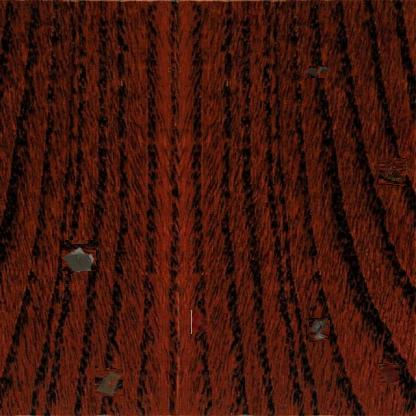dirty: (64, 242, 95, 272), (96, 368, 124, 396), (379, 159, 406, 185), (307, 319, 329, 341), (303, 66, 331, 78)
liquid: (377, 364, 399, 385), (191, 310, 208, 334)
